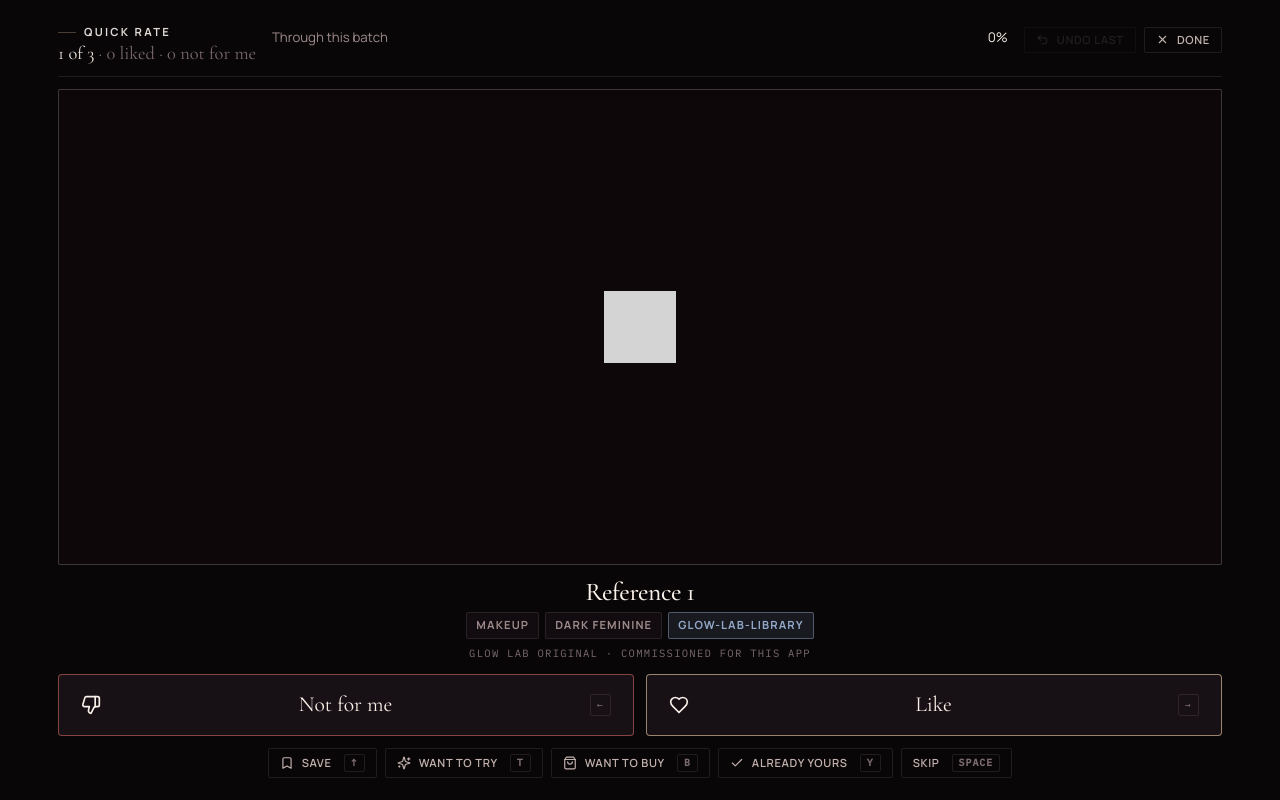
Test: QuickRate › counts a thumbs-down separately from a like
Step 1. Click the button "Not for me ←" → click(346, 705), box [58,674,634,736]
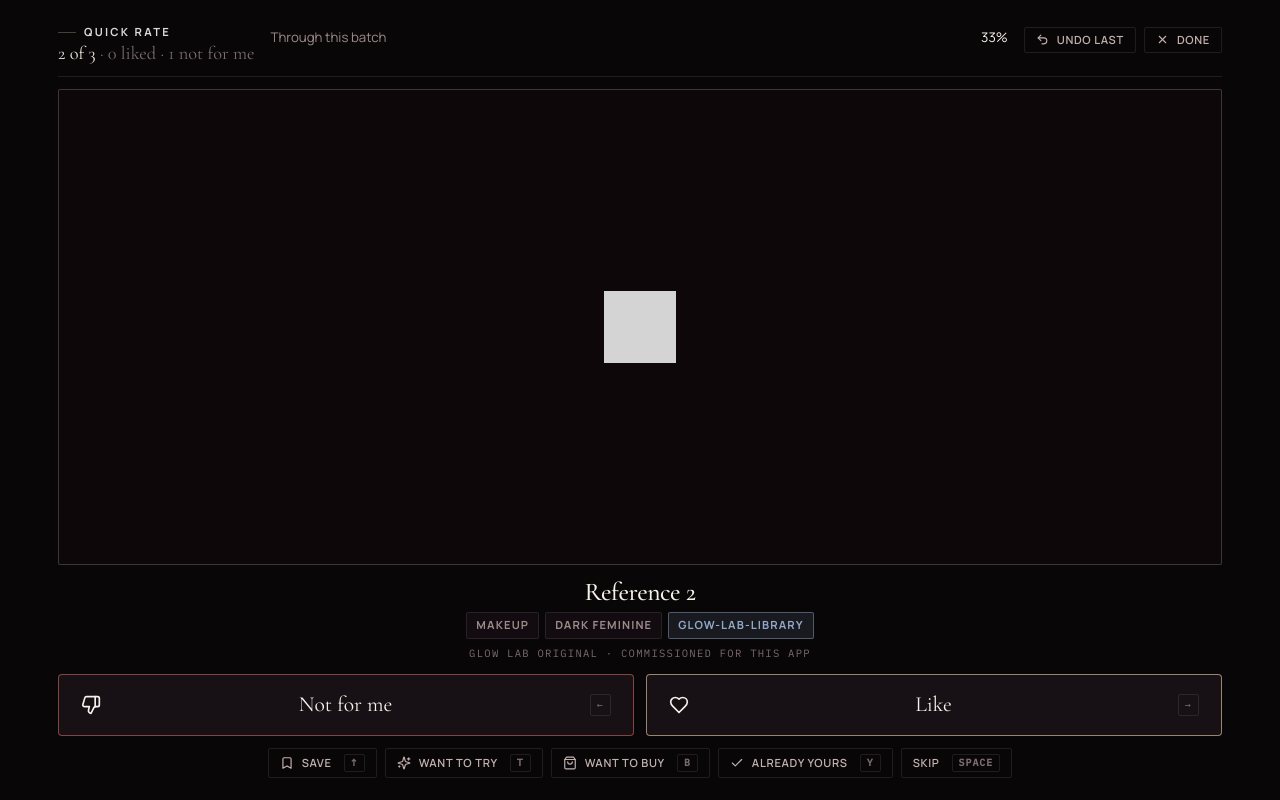
Expected: the text "1 not for me" is shown, [96,42,255,64]
